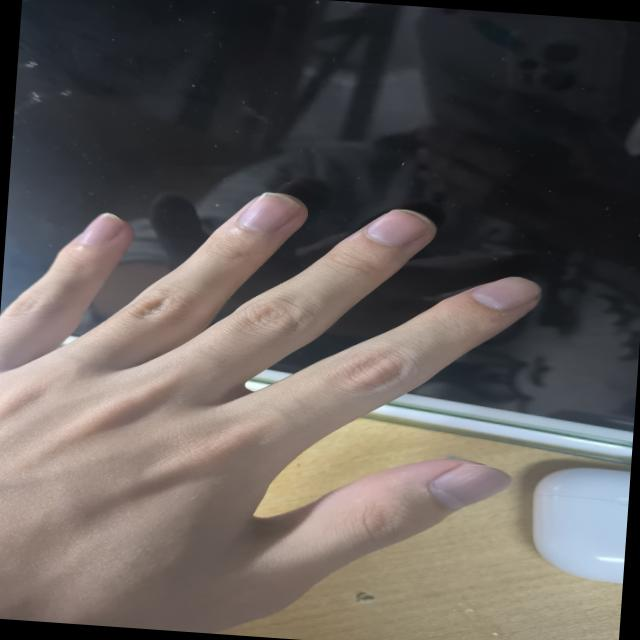Nail: (426, 464, 510, 509), (235, 192, 301, 233), (365, 209, 432, 246), (470, 276, 541, 309), (80, 213, 124, 243)
